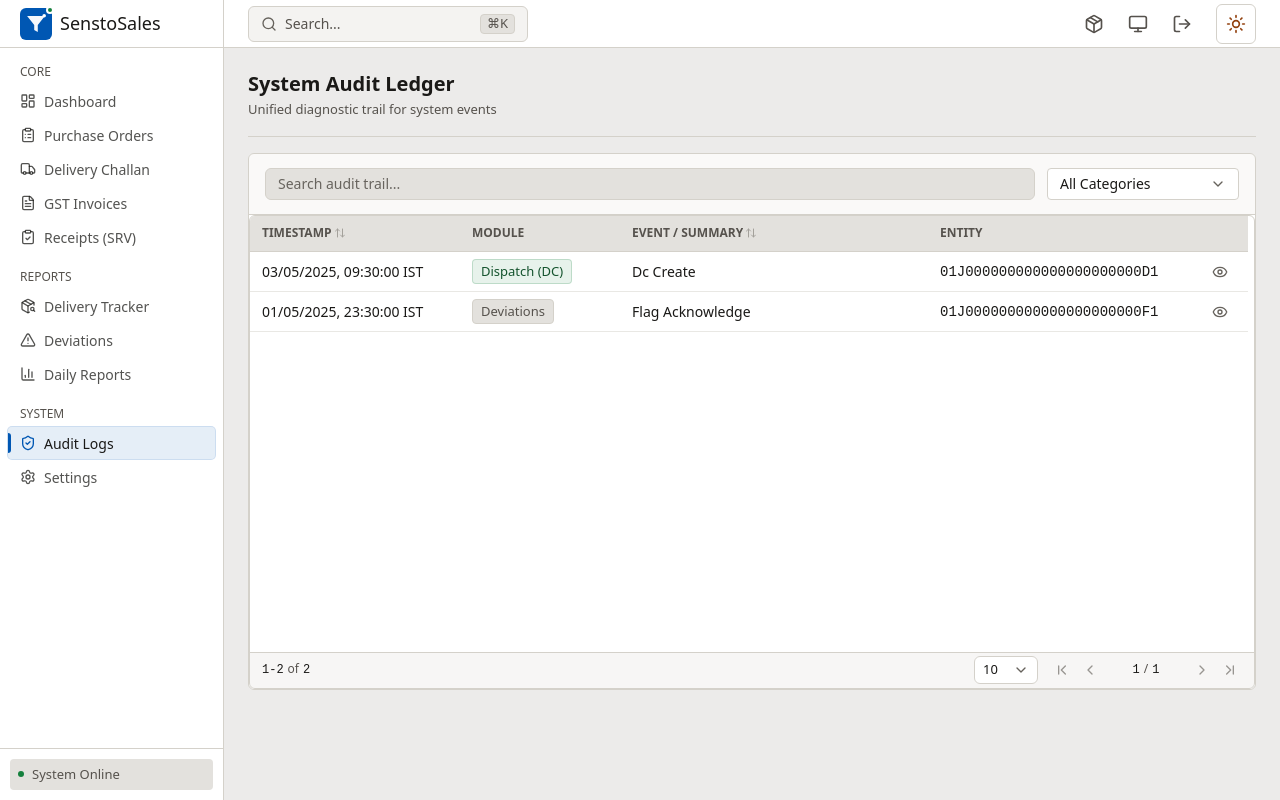
Scenario: system ledger (SPEC-17 PR 2) › opens the details from the row's view button too
Check: the text "Dc Create" is shown, box x1=620 y1=252 x2=928 y2=292
Click the button named "View log details" in the row of "03/05/2025, 09:30:00 IST": (1220, 272) x1=1204 y1=256 x2=1236 y2=288
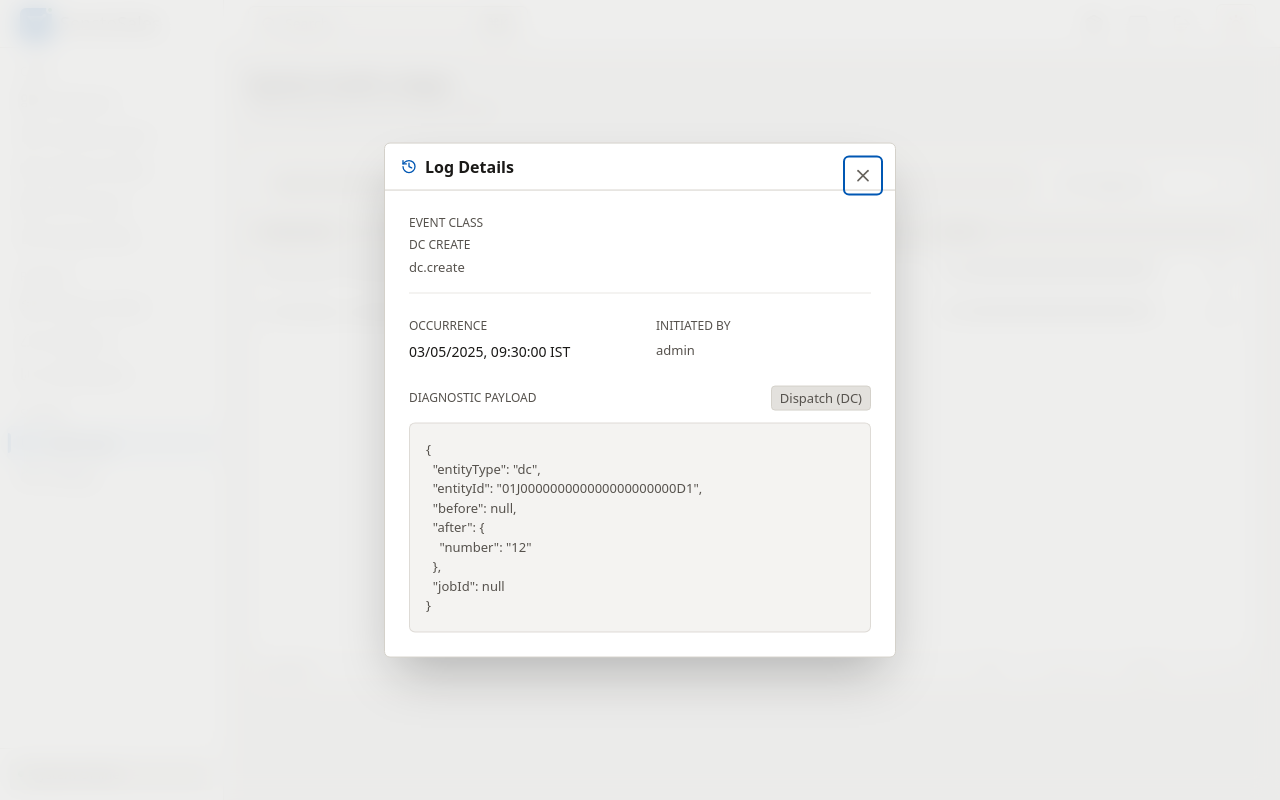
Check: the dialog "Log Details" is shown, box x1=384 y1=143 x2=896 y2=658
